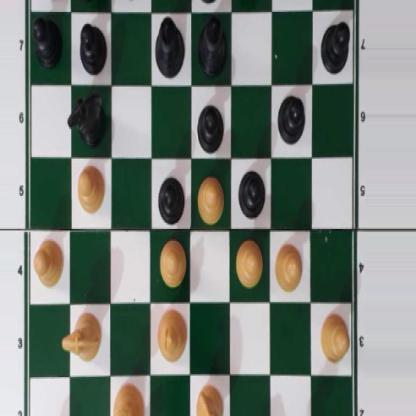black-bishop: (197, 15, 228, 76), (155, 15, 185, 76)
black-king: (194, 0, 225, 6)
black-knight: (67, 90, 107, 147), (63, 0, 98, 3)
black-pawn: (320, 21, 351, 75), (32, 15, 62, 69), (277, 91, 305, 145), (196, 102, 225, 153), (79, 19, 105, 75), (238, 166, 265, 218), (158, 172, 185, 223)
black-queen: (111, 0, 147, 1)
black-rook: (238, 0, 271, 1)
white-bishop: (157, 305, 188, 361)
white-knight: (61, 311, 102, 362), (195, 383, 226, 416)
white-pawn: (320, 310, 350, 365), (274, 236, 302, 293), (33, 236, 63, 287), (235, 236, 263, 287), (76, 163, 104, 214), (159, 236, 186, 287), (196, 174, 225, 221)
white-queen: (113, 377, 144, 416)
